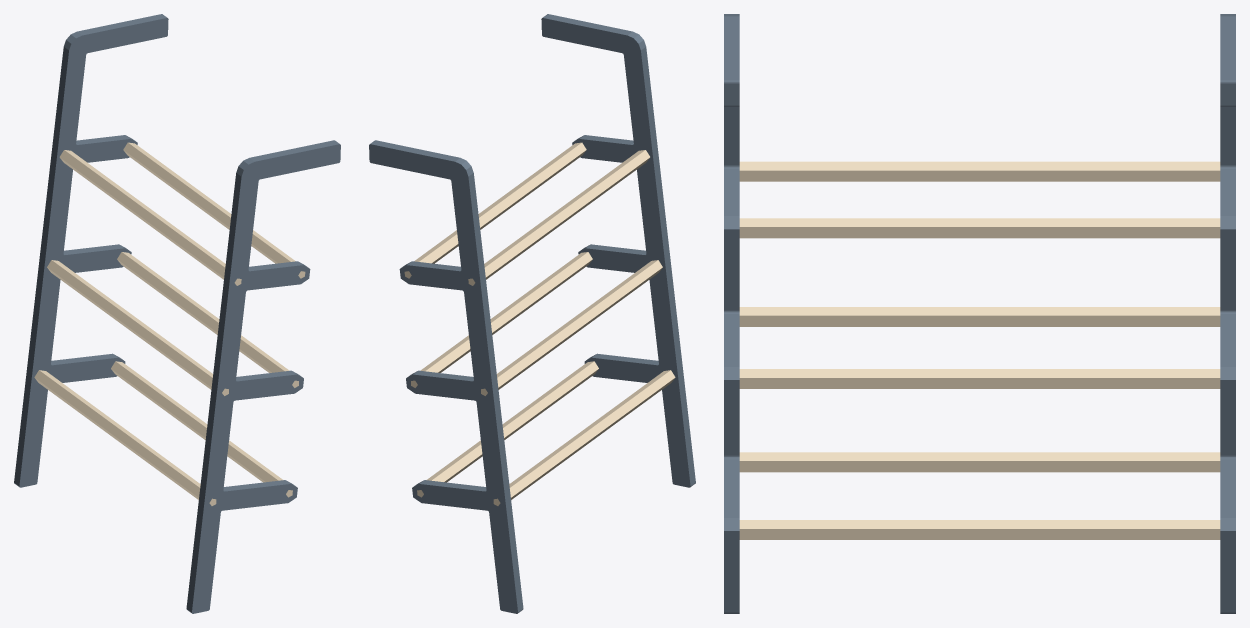
Rendered from Lean-ah Shoe Rack v27 centered.obj.
3 renders of one model, left to right at view 1: azimuth 30°, elevation 25°; view 2: azimuth 150°, elevation 25°; view 3: azimuth 270°, elevation 25°, orthographic. The views are drawn at different scales.
Parts seen in each view (by area): view 1: Body1; view 2: Body1; view 3: Body1.
Part boxes in pixels (x1,y1,x2,y2): Body1: (14, 14, 340, 613); Body1: (369, 14, 695, 613); Body1: (724, 14, 1235, 613).
Bounding box in the file's own units: 29.04 × 81.48 × 60.
